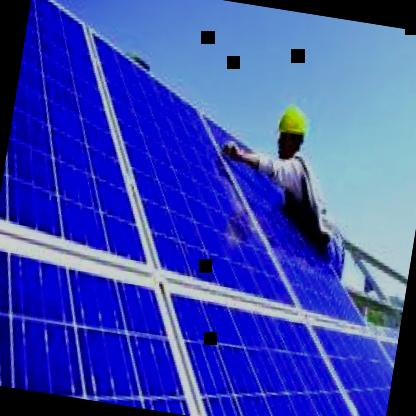helmet: (270, 97, 312, 162)
